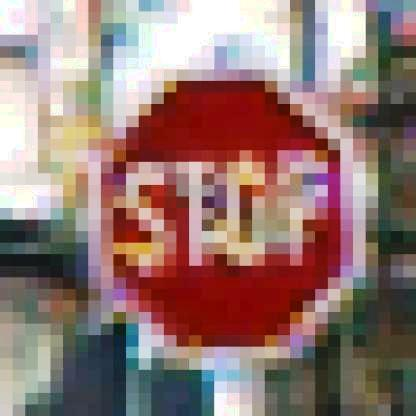Stop Sign: (86, 64, 374, 359)
